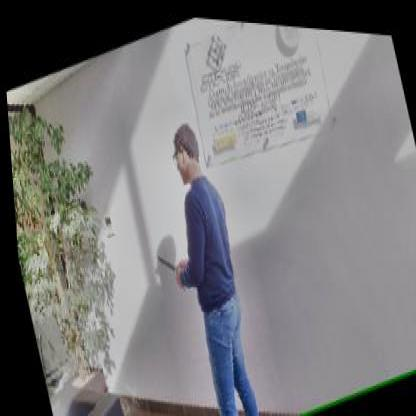knife: (150, 239, 178, 276)
